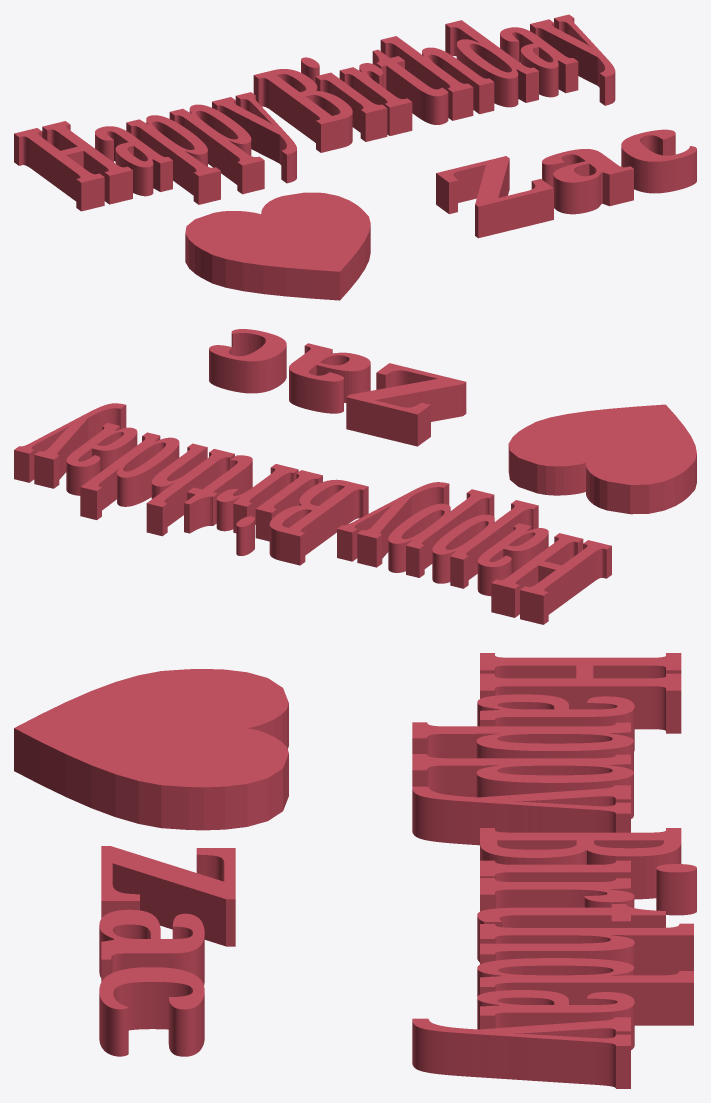
Rendered from birthdayHeart.glb.
3 views of the same model, one above another, from view 1: azimuth 30°, elevation 25°; view 2: azimuth 150°, elevation 25°; view 3: azimuth 270°, elevation 25° (orthographic). The views are drawn at different scales.
Parts seen in each view (by area): view 1: Mesh_Mesh_head_geo.001_lambert2SG.001; view 2: Mesh_Mesh_head_geo.001_lambert2SG.001; view 3: Mesh_Mesh_head_geo.001_lambert2SG.001.
Boxes of the visible parts, x1,y1,x2,y2 form: Mesh_Mesh_head_geo.001_lambert2SG.001: [14, 14, 696, 300]; Mesh_Mesh_head_geo.001_lambert2SG.001: [14, 329, 696, 624]; Mesh_Mesh_head_geo.001_lambert2SG.001: [14, 653, 696, 1088].
Bounding box in the file's own units: 196 × 11 × 144.
